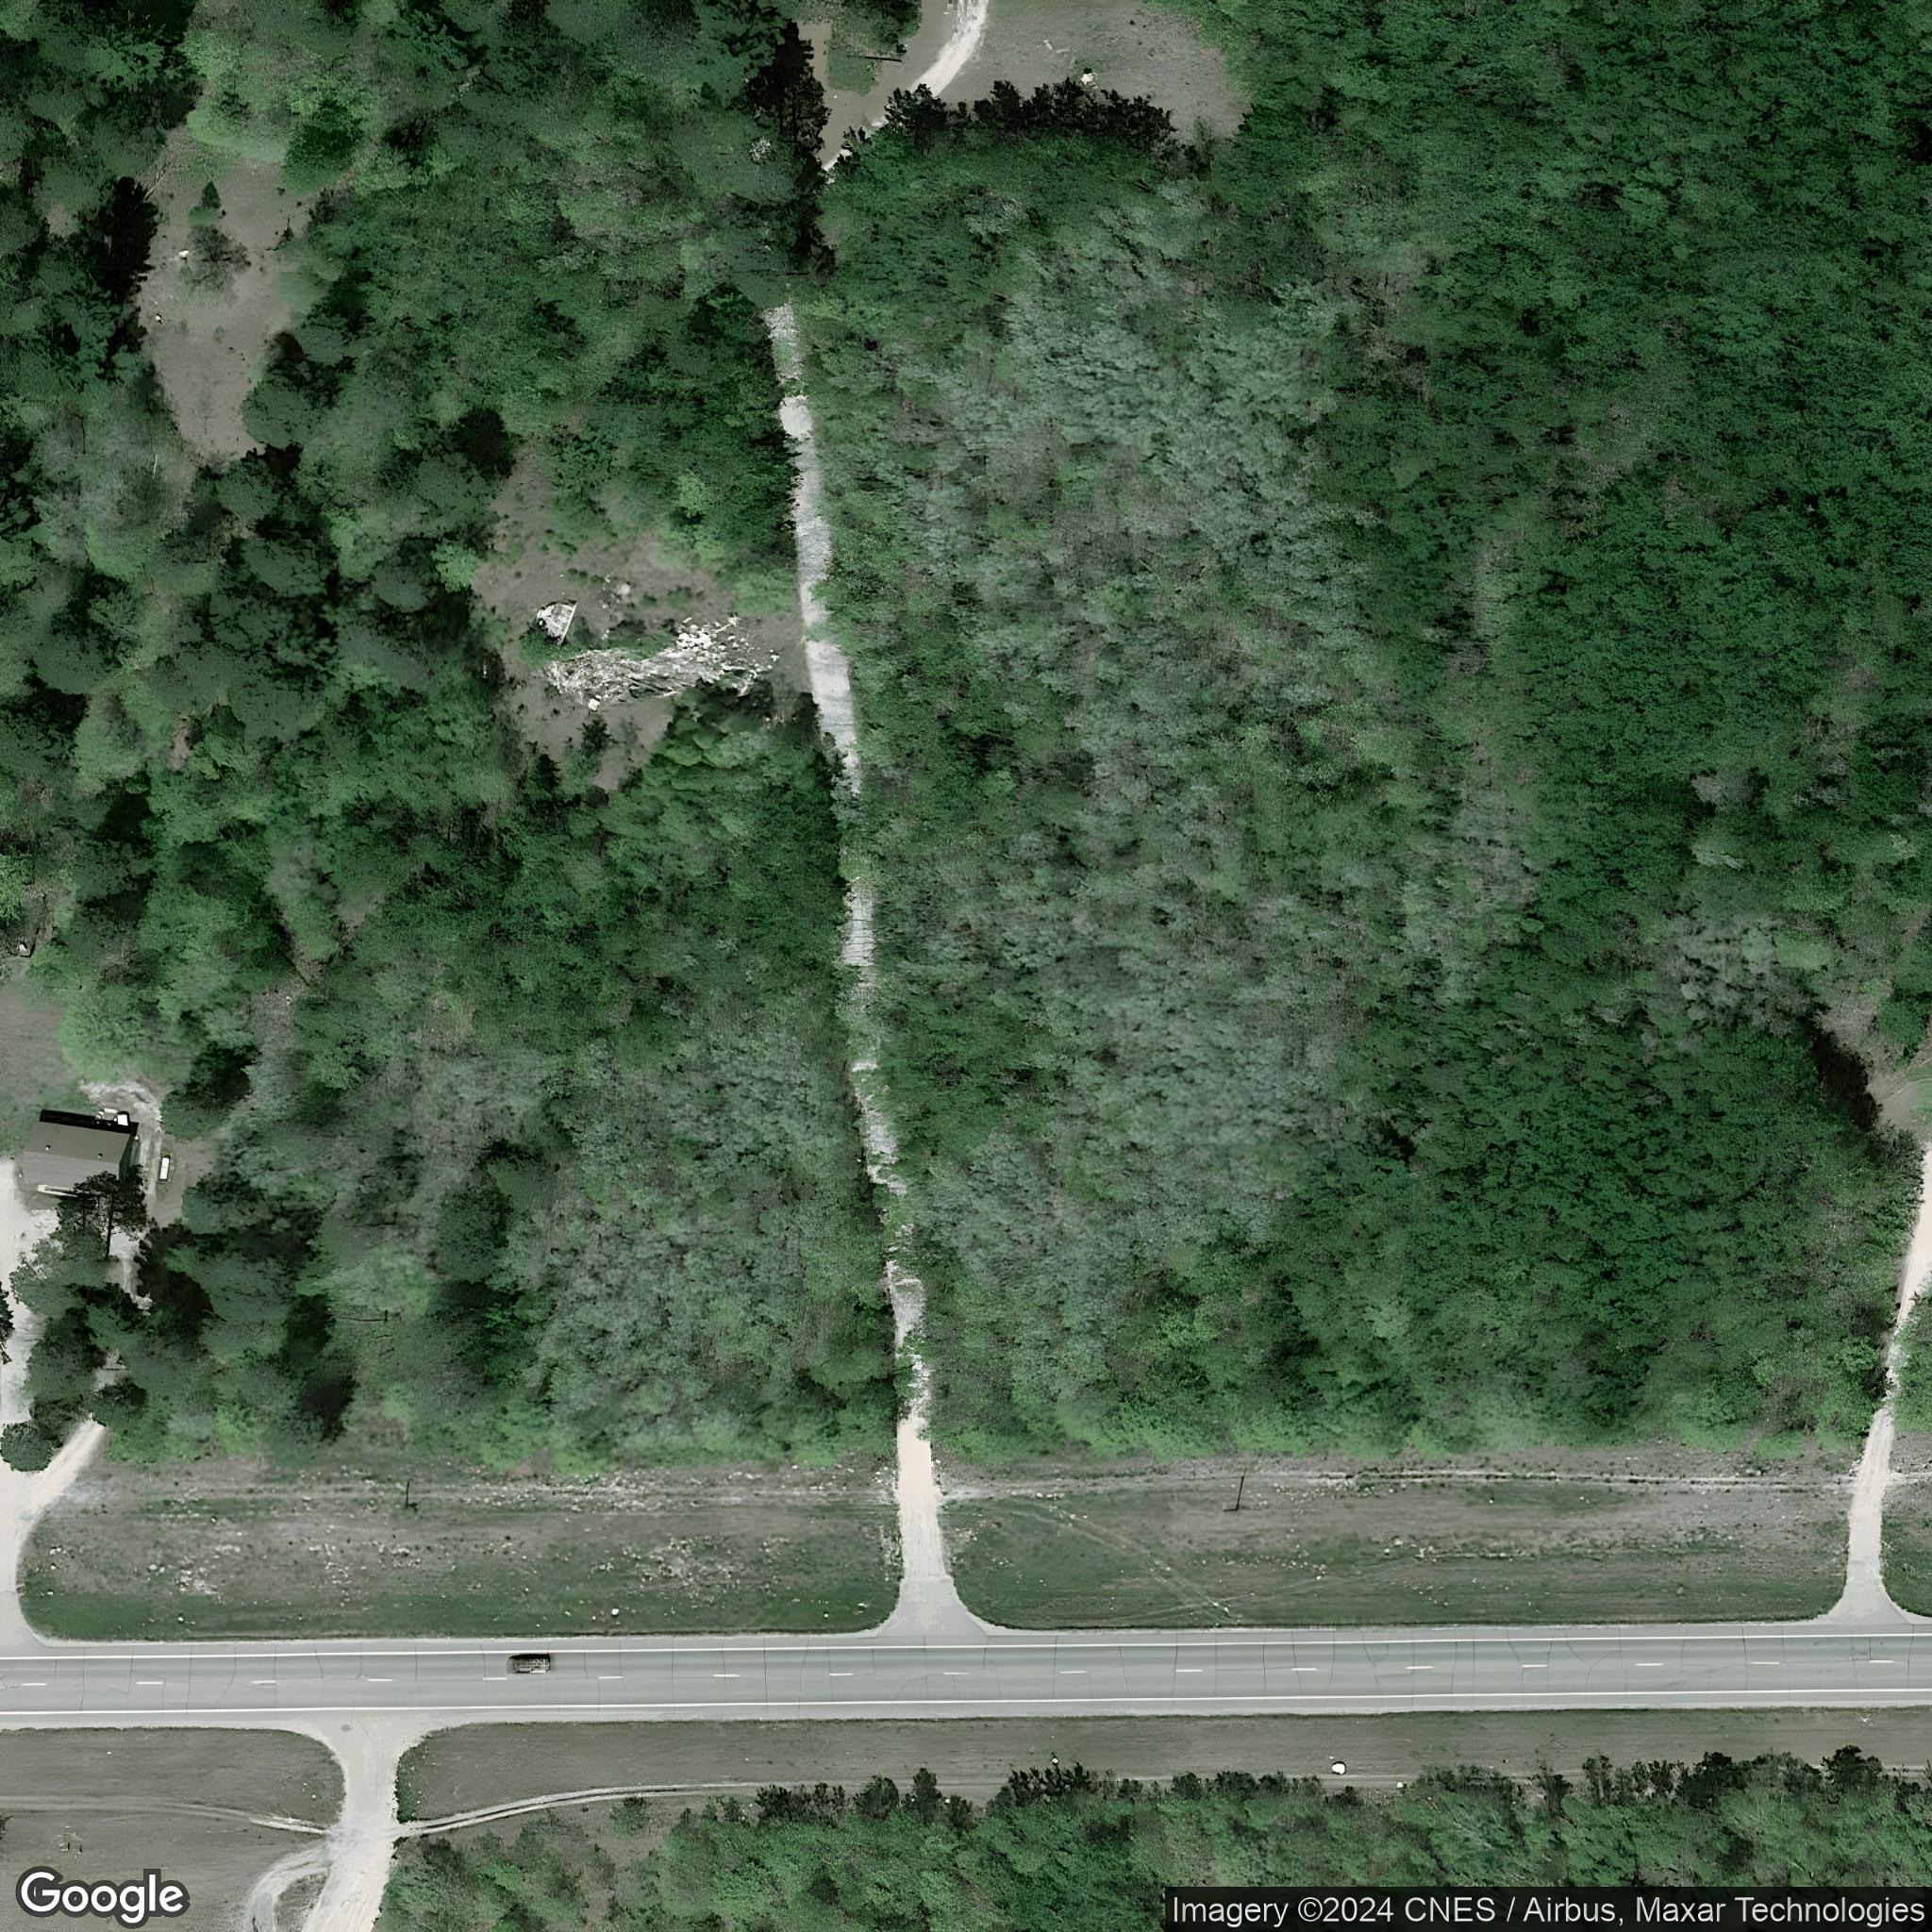House: (19, 1120, 133, 1198)
Propane: (156, 1152, 173, 1187)
